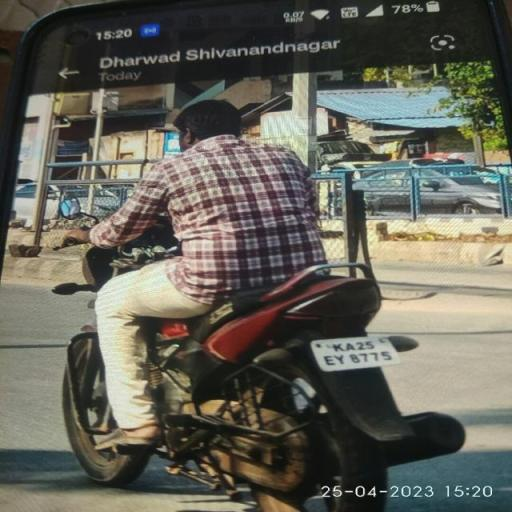bike: (35, 91, 480, 512)
numberplate: (310, 326, 401, 377)
withouthelmet: (178, 97, 242, 143)
